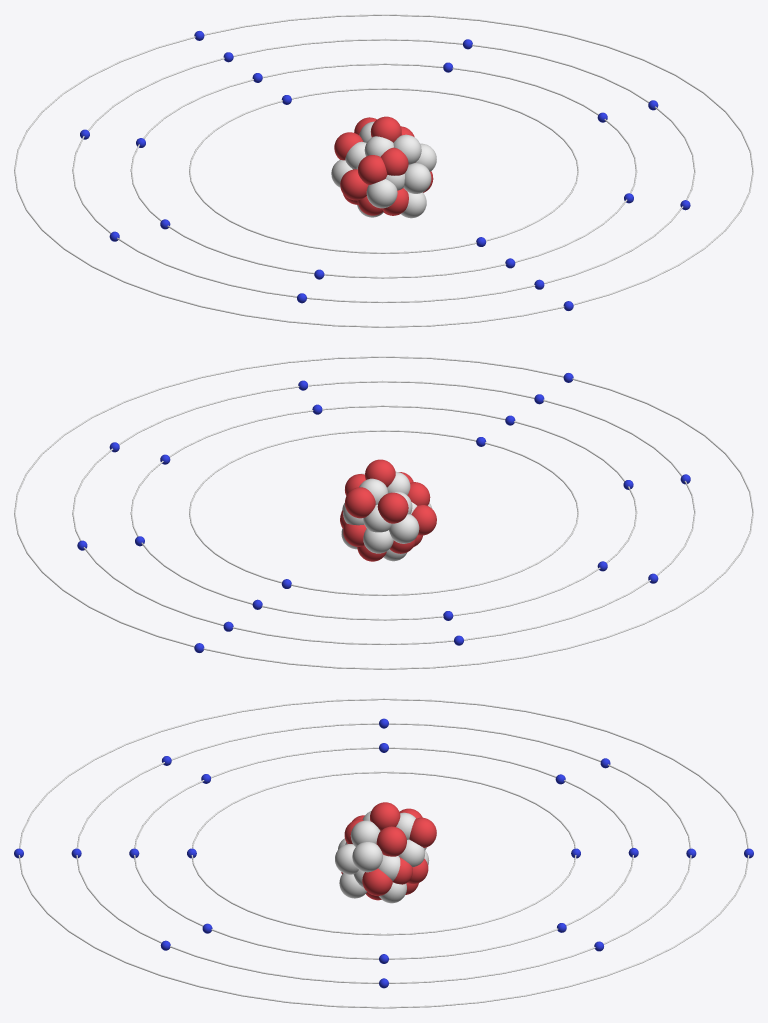
Rendered from Calcium.glb.
3 renders of one model, top to bottom at view 1: azimuth 30°, elevation 25°; view 2: azimuth 150°, elevation 25°; view 3: azimuth 270°, elevation 25°, orthographic.
Visible parts, largest first — view 1: N-Schale, M-Schale, L-Schale, K-Schale, Neutron 15, Neutron 13, Proton 14, Proton 16, Proton 15, Proton 20, Neutron 20; view 2: N-Schale, M-Schale, L-Schale, K-Schale, Proton 17, Proton 18, Neutron 16, Proton 20, Neutron 8, Proton 16; view 3: N-Schale, M-Schale, L-Schale, K-Schale, Neutron 19, Proton 7, Proton 20, Proton 18, Proton 11, Neutron 20, Neutron 13.
Part boxes in pixels (x1=…): N-Schale: x1=14, y1=14, x2=753, y2=327; M-Schale: x1=72, y1=38, x2=695, y2=303; L-Schale: x1=130, y1=63, x2=637, y2=278; K-Schale: x1=189, y1=88, x2=578, y2=253; Neutron 15: x1=366, y1=179, x2=397, y2=208; Neutron 13: x1=403, y1=163, x2=431, y2=193; Proton 14: x1=358, y1=155, x2=387, y2=184; Proton 16: x1=340, y1=169, x2=368, y2=200; Proton 15: x1=381, y1=147, x2=408, y2=175; Proton 20: x1=370, y1=116, x2=401, y2=142; Neutron 20: x1=393, y1=134, x2=421, y2=164; N-Schale: x1=14, y1=356, x2=753, y2=669; M-Schale: x1=72, y1=380, x2=695, y2=645; L-Schale: x1=130, y1=405, x2=637, y2=620; K-Schale: x1=189, y1=430, x2=578, y2=595; Proton 17: x1=377, y1=492, x2=408, y2=523; Proton 18: x1=345, y1=487, x2=375, y2=518; Neutron 16: x1=389, y1=514, x2=419, y2=543; Proton 20: x1=365, y1=459, x2=395, y2=487; Neutron 8: x1=363, y1=528, x2=393, y2=553; Proton 16: x1=411, y1=505, x2=436, y2=535; N-Schale: x1=18, y1=698, x2=749, y2=1008; M-Schale: x1=76, y1=723, x2=691, y2=983; L-Schale: x1=134, y1=747, x2=633, y2=959; K-Schale: x1=191, y1=771, x2=576, y2=935; Neutron 19: x1=352, y1=842, x2=382, y2=872; Proton 7: x1=376, y1=826, x2=406, y2=856; Proton 20: x1=370, y1=802, x2=400, y2=830; Proton 18: x1=409, y1=817, x2=436, y2=847; Proton 11: x1=362, y1=868, x2=392, y2=895; Neutron 20: x1=350, y1=820, x2=380, y2=846; Neutron 13: x1=335, y1=844, x2=358, y2=874.
Size of the model in its own units: 19.04 by 2.7 by 19.26.
